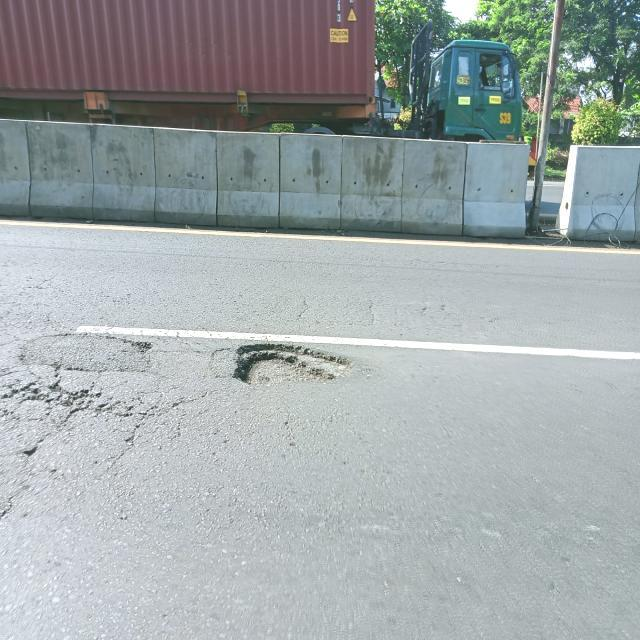Buraco: (229, 341, 357, 389)
